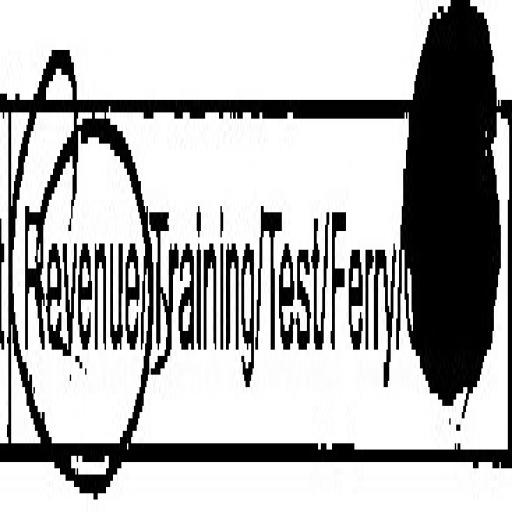check: (10, 17, 146, 512)
